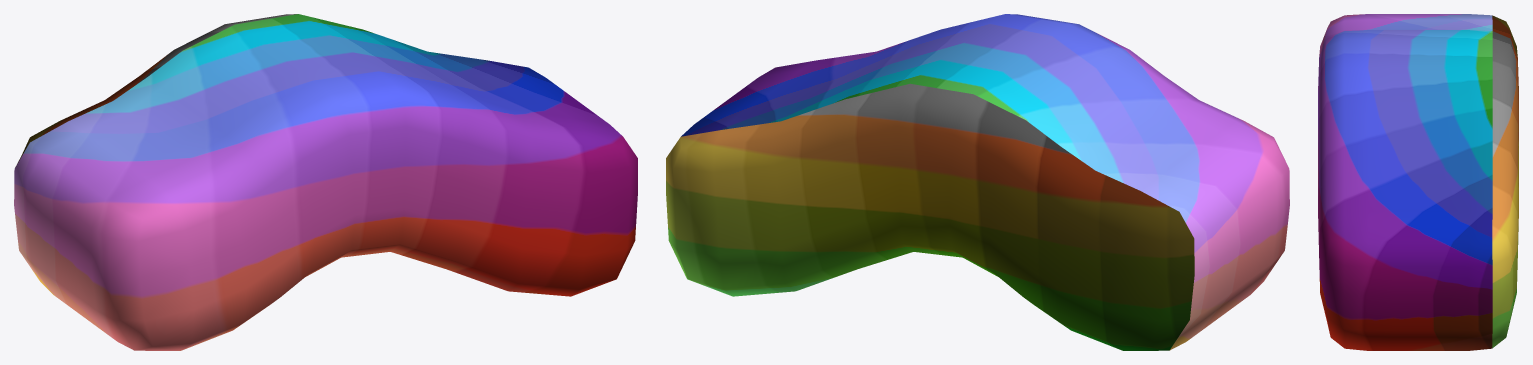
File: Western_Platform_DeformMesh2.fbx
The picture shows the model from 3 angles, left to right: view 1: azimuth 30°, elevation 25°; view 2: azimuth 150°, elevation 25°; view 3: azimuth 270°, elevation 25°; orthographic projection. The views are drawn at different scales.
Visible parts, largest first — view 1: Cube.007; view 2: Cube.007; view 3: Cube.007.
Boxes of the visible parts, box(x1,y1,x2,y2) form: Cube.007: box(14, 14, 637, 350); Cube.007: box(666, 14, 1289, 350); Cube.007: box(1318, 14, 1518, 350).
Size of the model in its own units: 1824 by 864 by 762.
1 material, 1 textured.
